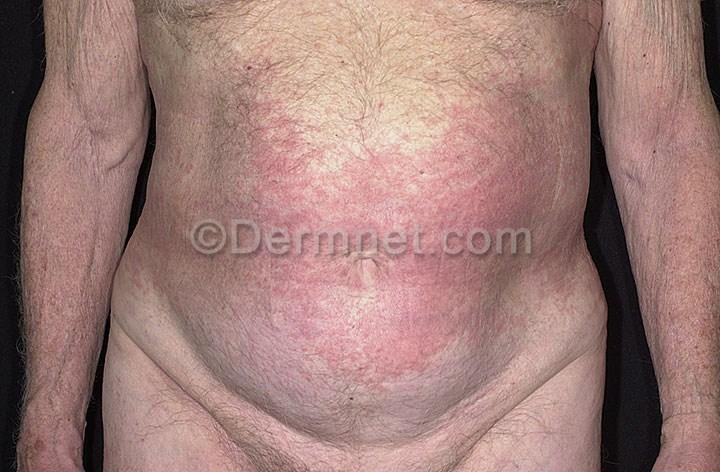Eczema: (270, 253, 487, 422), (353, 62, 542, 220), (191, 33, 336, 211)
